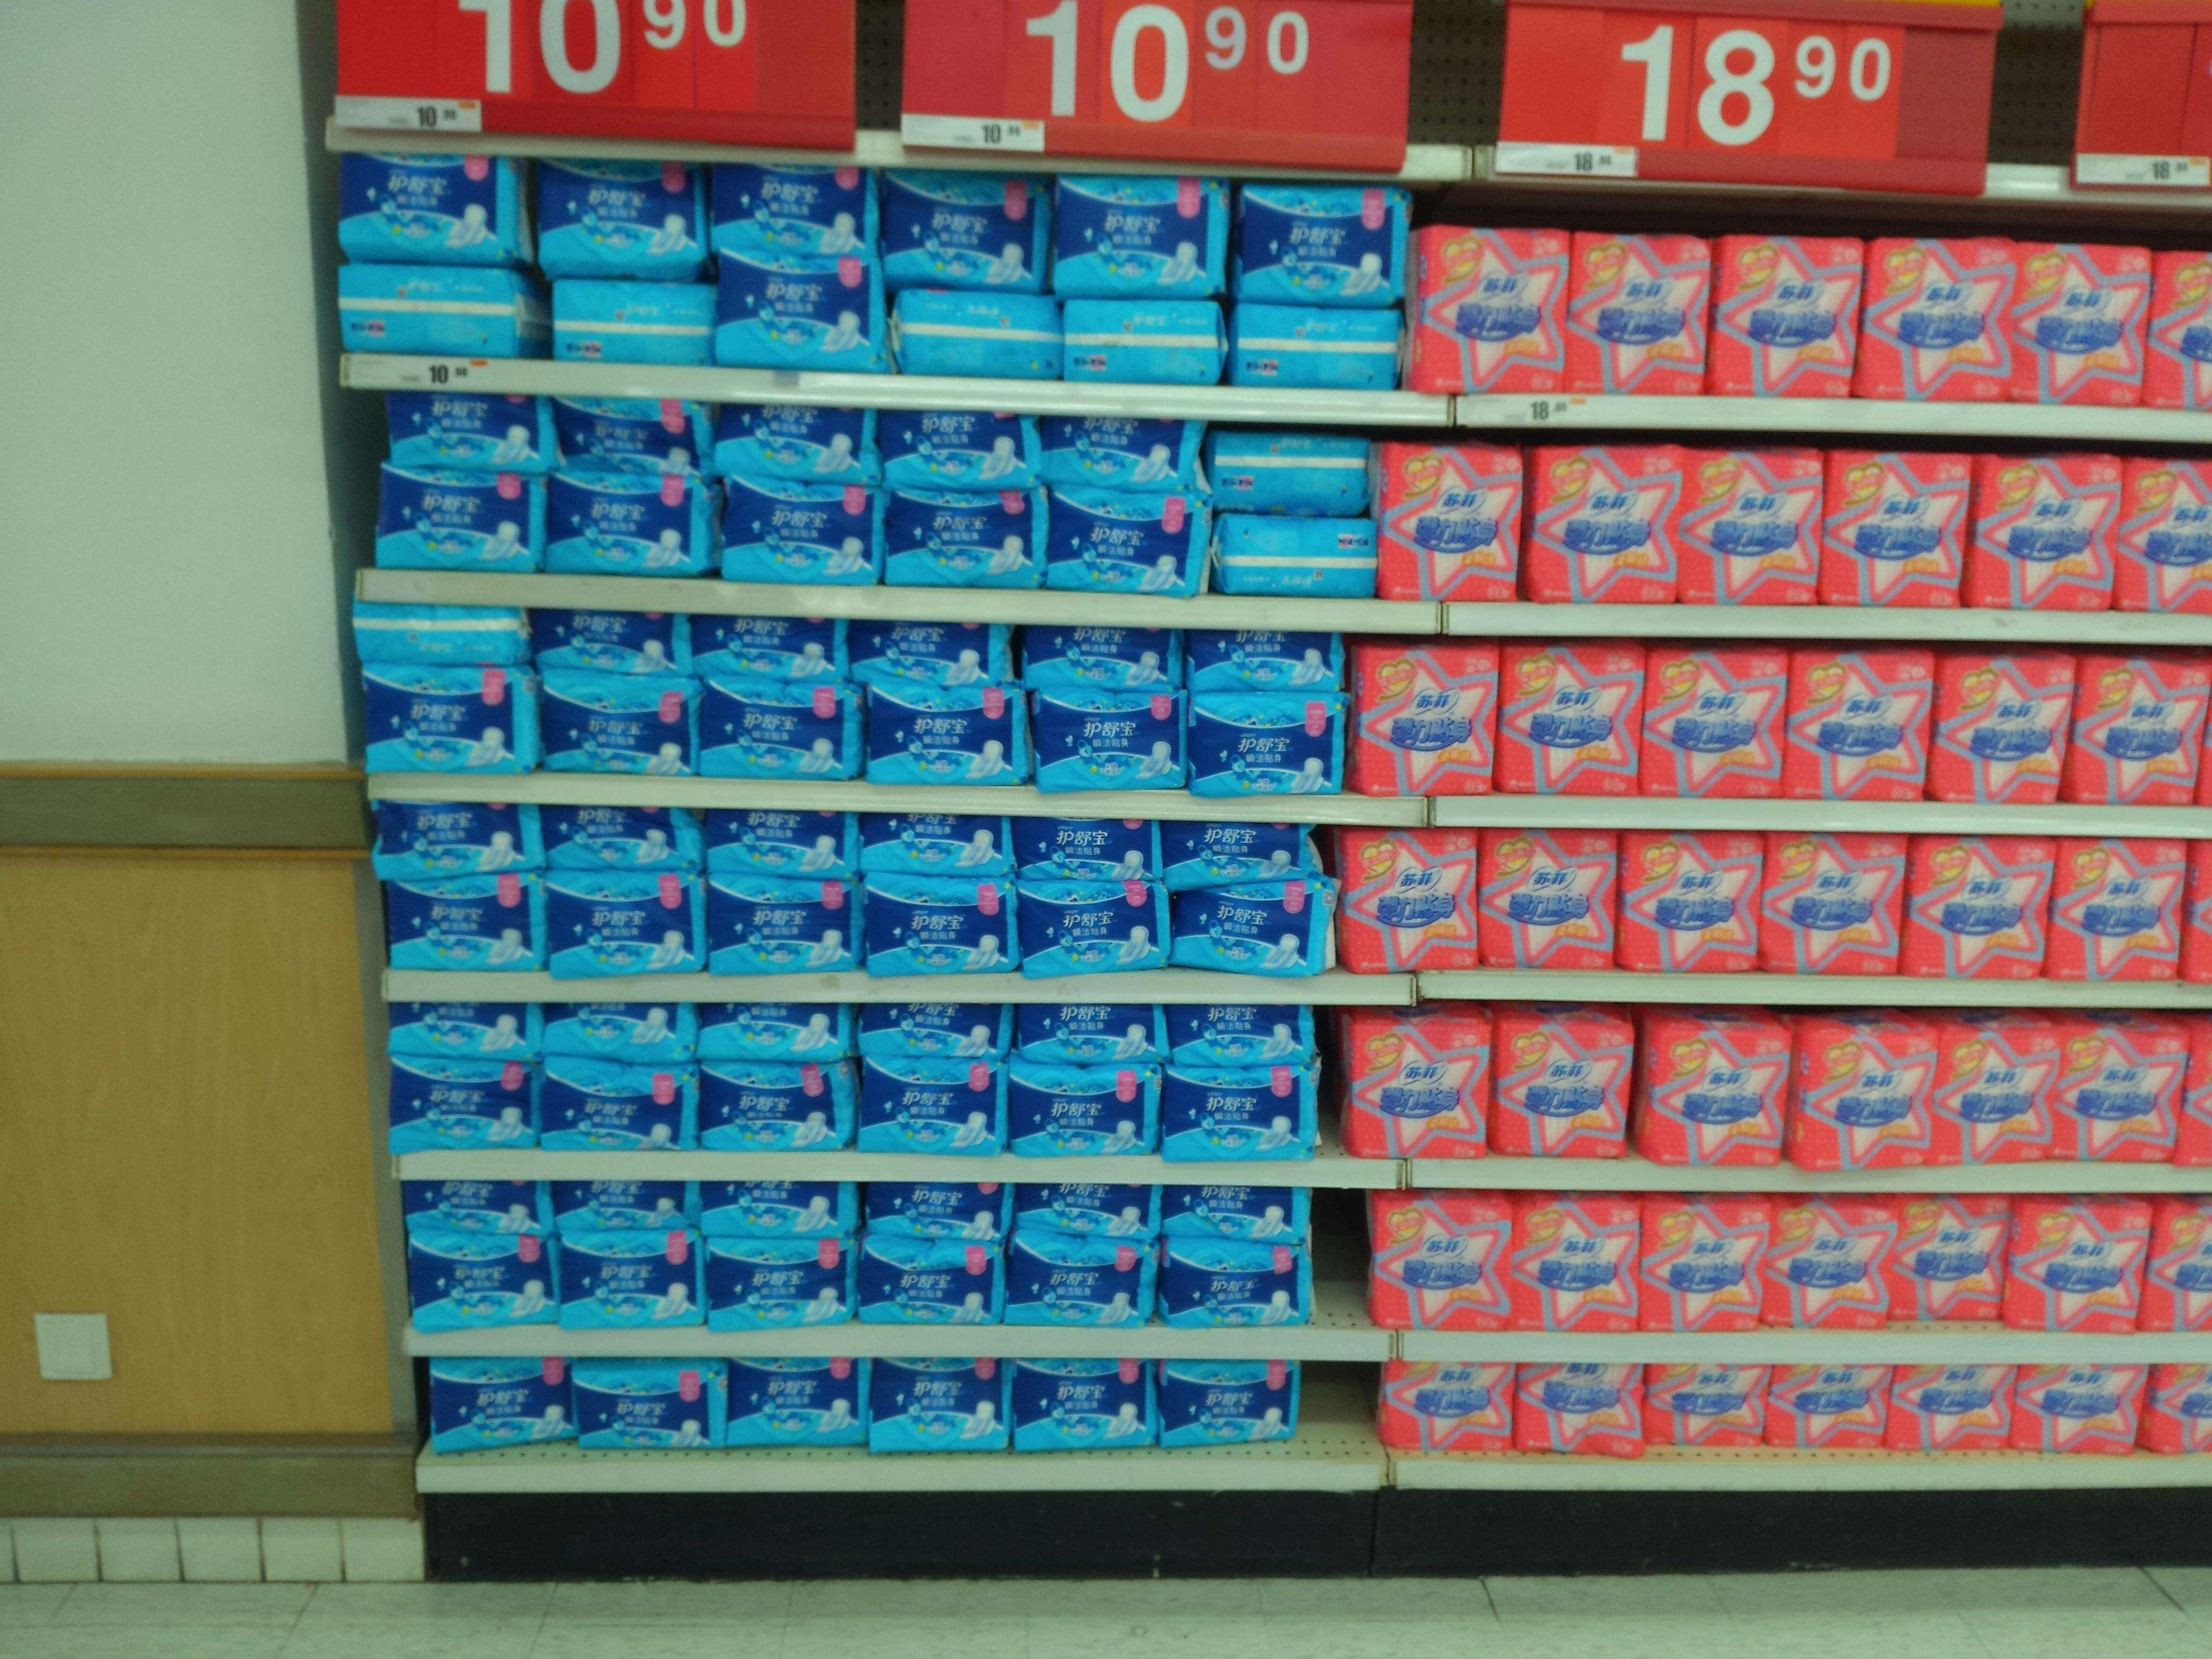empty: (1298, 1359, 1378, 1448), (1317, 1202, 1369, 1324)
